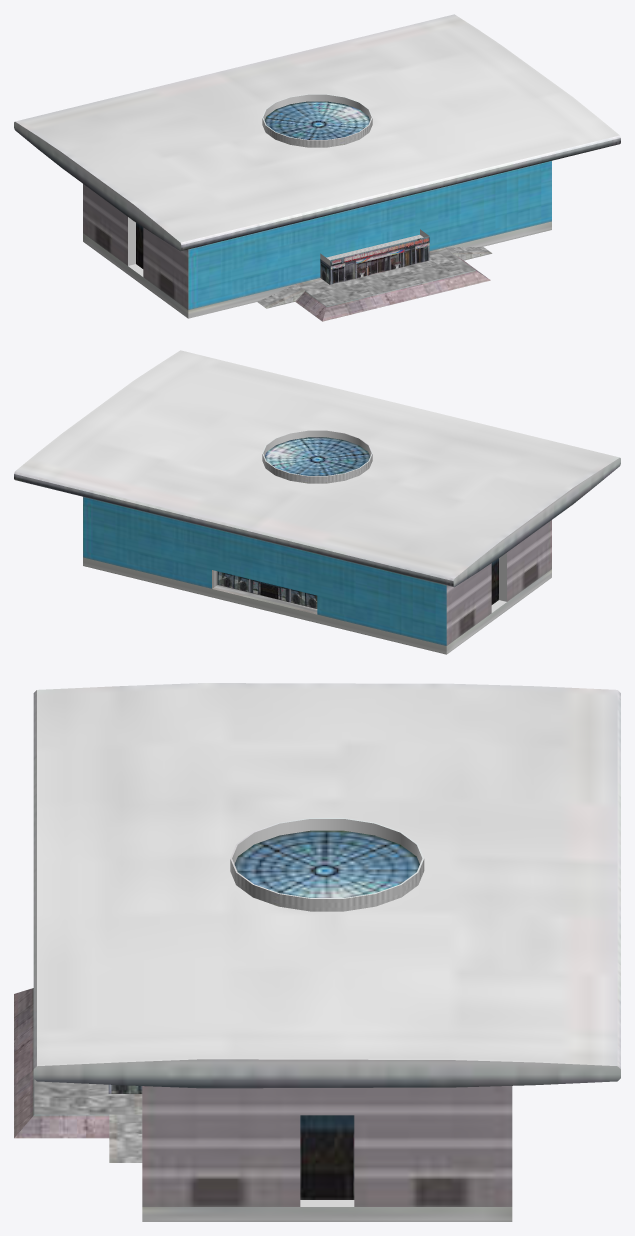
3 renders of one model, top to bottom at view 1: azimuth 30°, elevation 25°; view 2: azimuth 150°, elevation 25°; view 3: azimuth 270°, elevation 25°, orthographic. The views are drawn at different scales.
Parts seen in each view (by area): view 1: 5dc530e58a491811d46b4b88; view 2: 5dc530e58a491811d46b4b88; view 3: 5dc530e58a491811d46b4b88.
Part boxes in pixels (<box>): 5dc530e58a491811d46b4b88: <box>14,14,620,321</box>; 5dc530e58a491811d46b4b88: <box>14,350,620,654</box>; 5dc530e58a491811d46b4b88: <box>14,683,620,1221</box>.
Bounding box in the file's own units: 97 × 24.97 × 66.13.
Materials: 1 (1 with a texture image).
